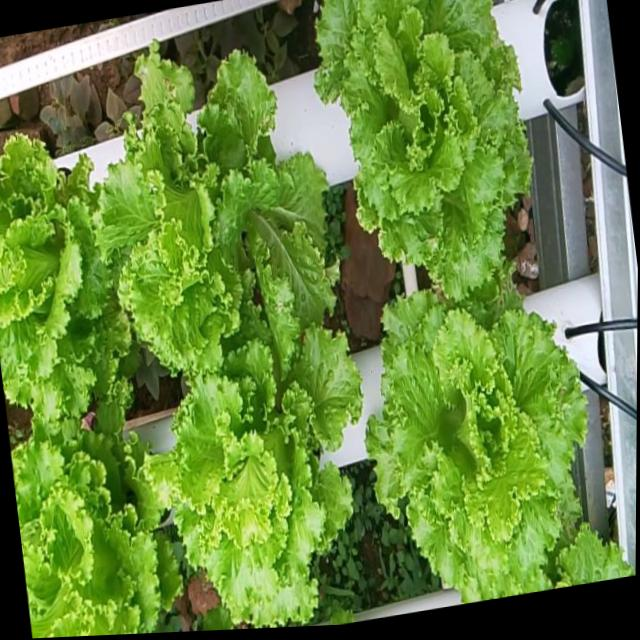Mature: (95, 7, 331, 379), (363, 279, 615, 604), (141, 325, 360, 629), (312, 0, 531, 303), (10, 404, 176, 638), (0, 131, 126, 421)
